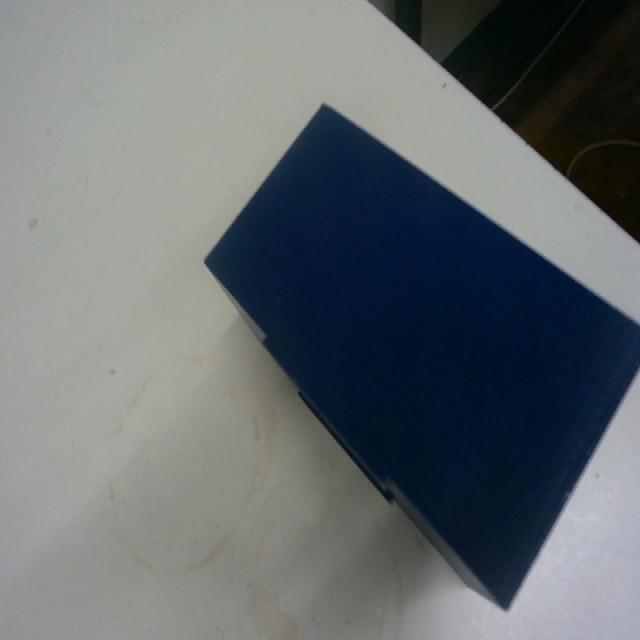Blue Cuboid: (202, 99, 639, 610)
